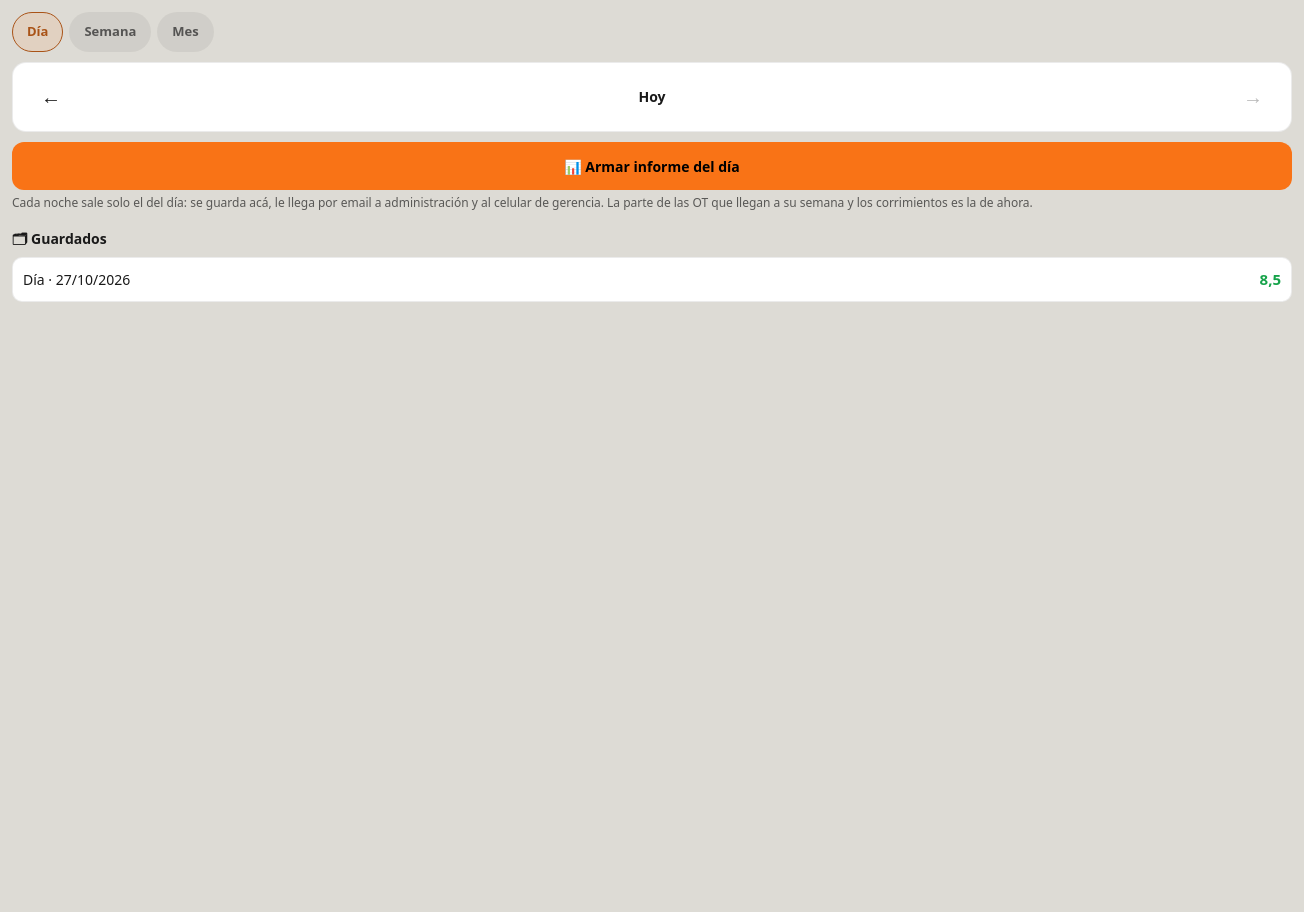
🏭 Producción — guardados, informe parcial de la semana con la nota y el detalle por proceso
Step 1. Click the button "Semana" → (110, 32), box [69, 12, 151, 52]
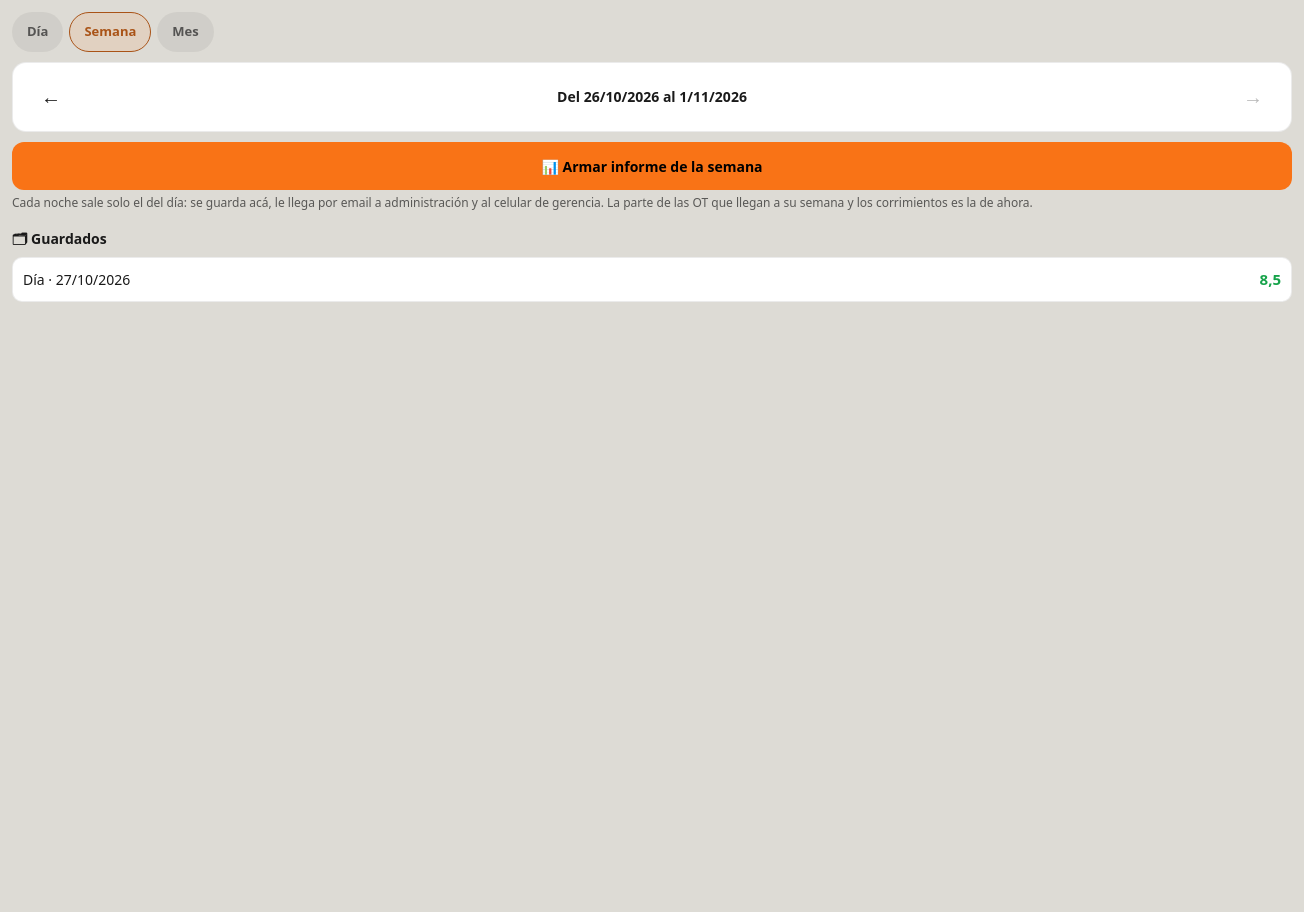
Step 2. Click the button "📊 Armar informe de la semana" → (652, 166), box [12, 142, 1292, 190]
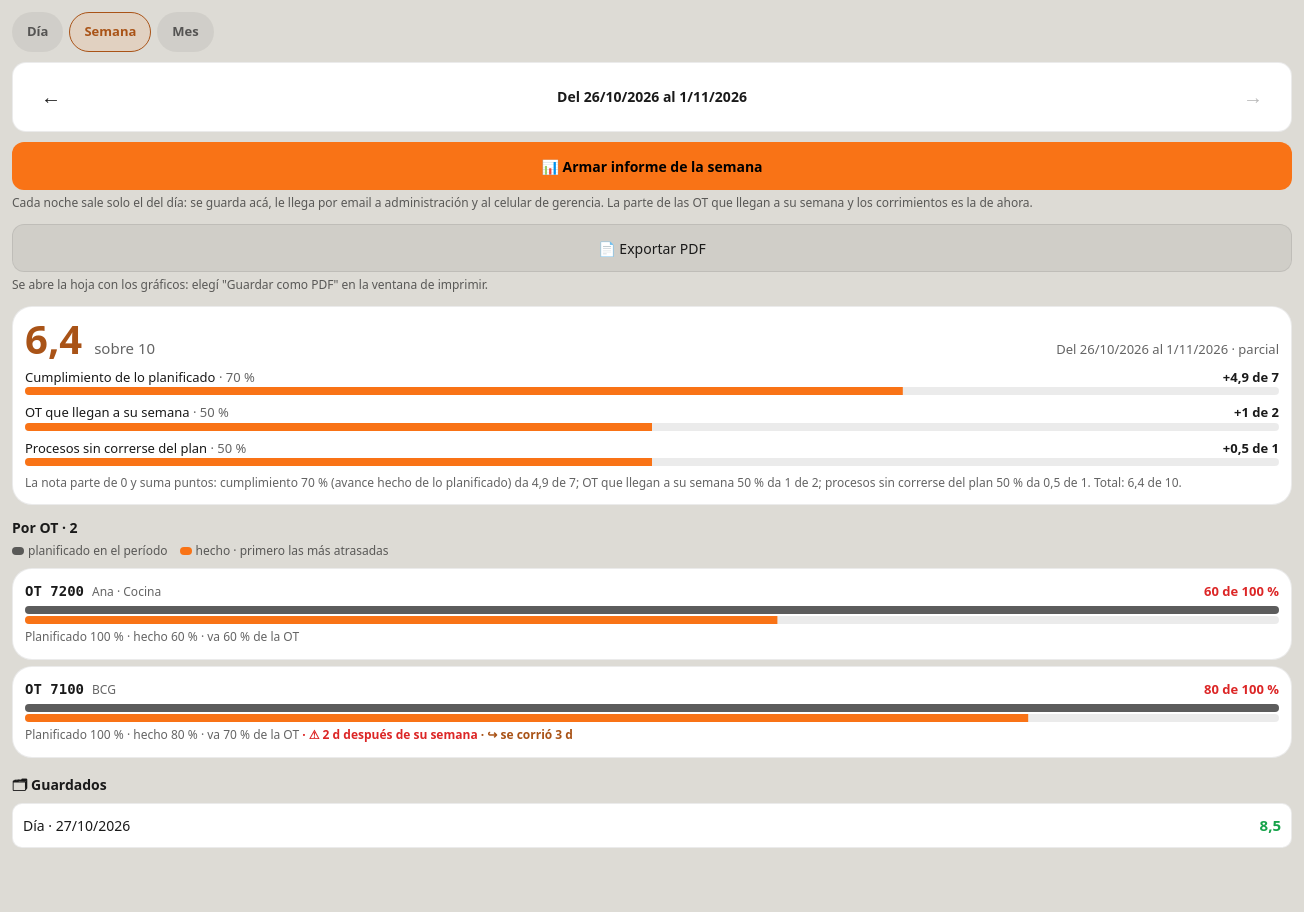
Expected: the element named "Nota del período" shows "La nota parte de 0 y suma puntos", [25, 474, 1182, 491]
Step 3. Click the button that starts with "Ana · Cocina" → (652, 614), box [25, 581, 1279, 646]
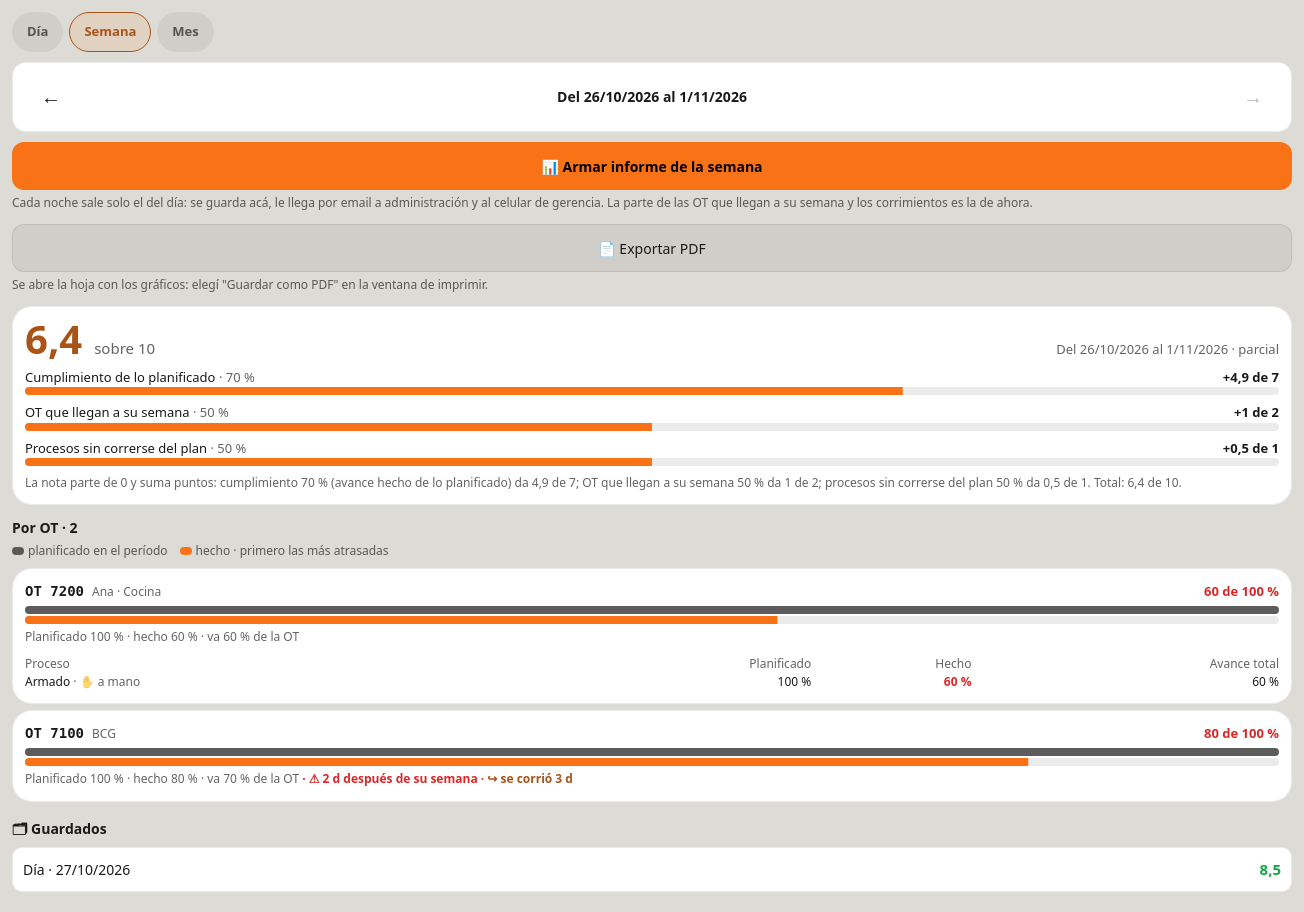
// Uno guardado
Step 4. Click the button "Día · 27/10/2026 8,5" → (93, 869), box [12, 847, 1292, 892]
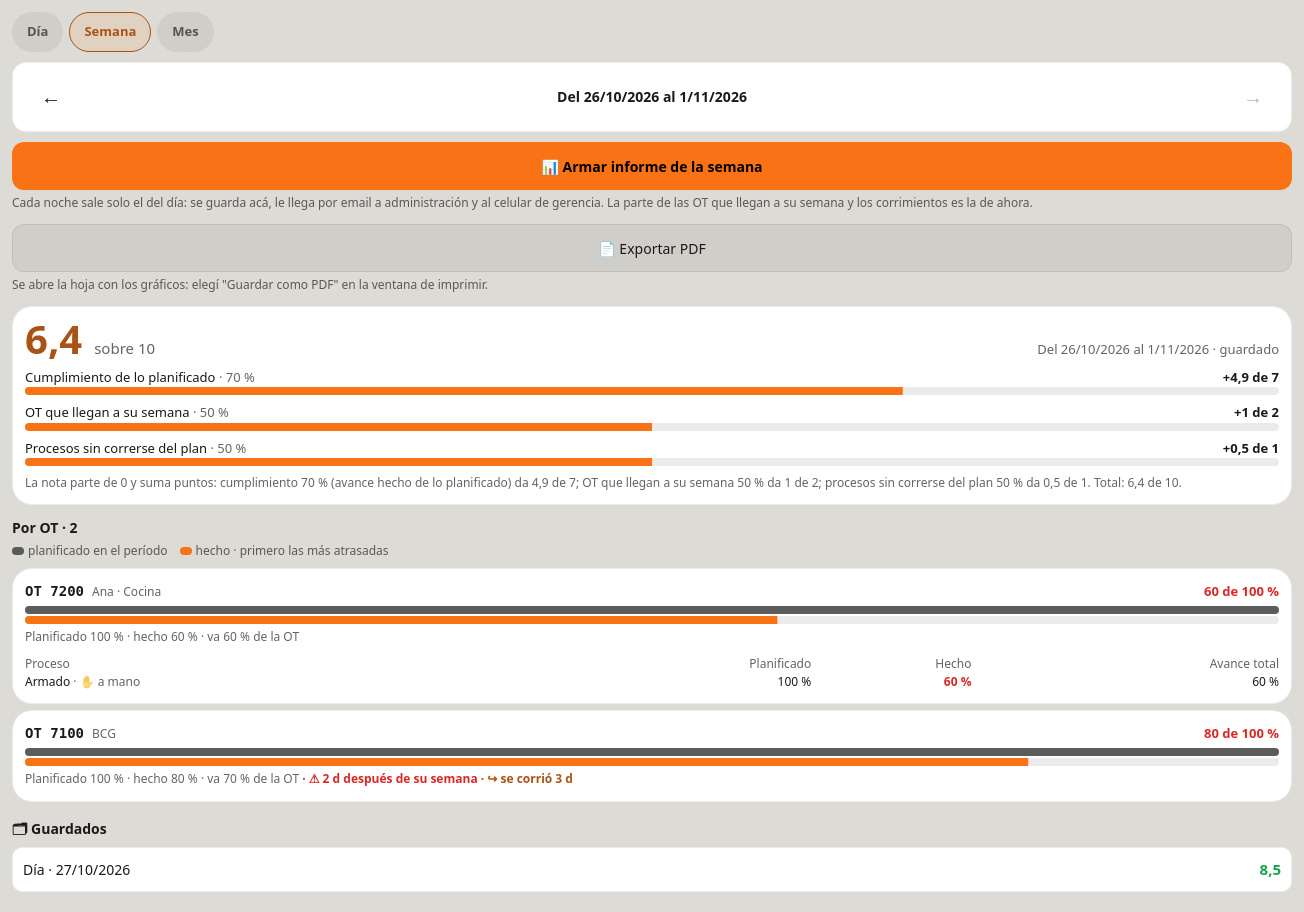
Expected: the element named "Nota del período" shows "guardado", [1209, 340, 1279, 358]
